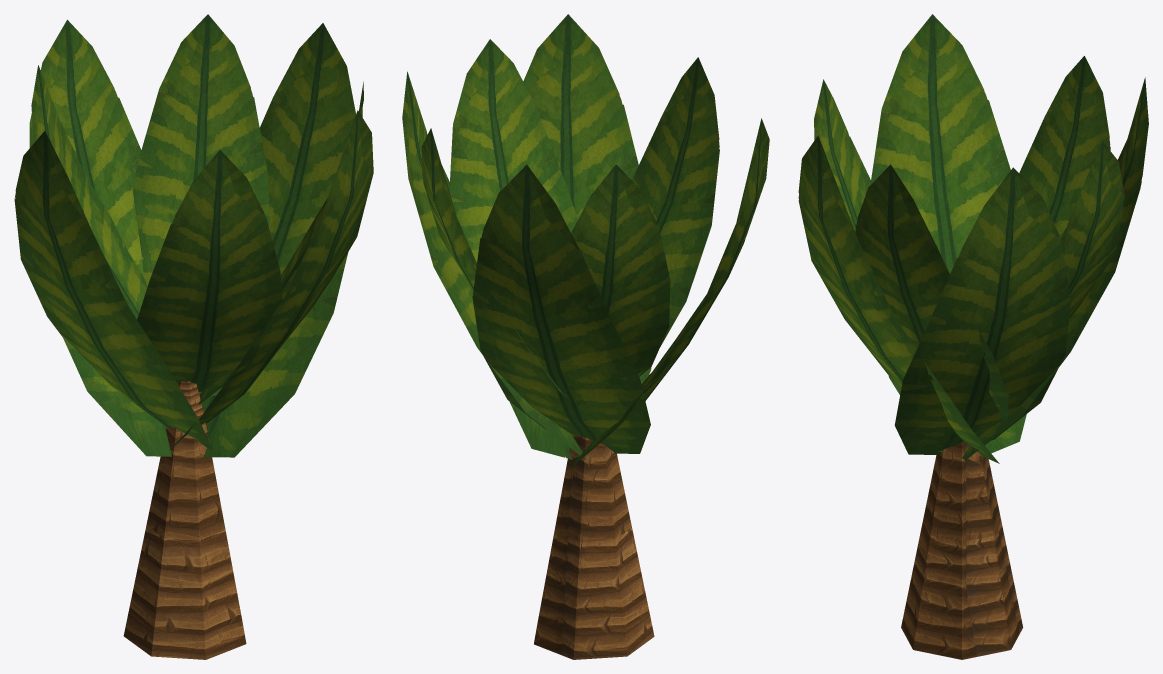
Rendered from MBL_Palm4 (1).fbx.
3 views of the same model, side by side, from view 1: azimuth 30°, elevation 25°; view 2: azimuth 150°, elevation 25°; view 3: azimuth 270°, elevation 25° (orthographic).
Parts seen in each view (by area): view 1: MBL_Palm4_trunkShape; view 2: MBL_Palm4_trunkShape; view 3: MBL_Palm4_trunkShape.
Part boxes in pixels (x1=…): MBL_Palm4_trunkShape: x1=14, y1=14, x2=373, y2=659; MBL_Palm4_trunkShape: x1=402, y1=14, x2=769, y2=659; MBL_Palm4_trunkShape: x1=798, y1=14, x2=1148, y2=659.
Size of the model in its own units: 1.47 by 2.32 by 1.36.
Materials: 2 (2 with a texture image).
